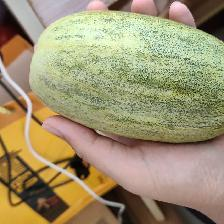gua: (73, 42, 193, 117)
